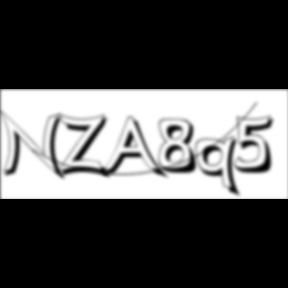5: (232, 114, 280, 176)
8: (158, 117, 204, 176)
A: (101, 116, 170, 182)
N: (0, 109, 70, 183)
Z: (58, 112, 114, 181)
q: (196, 135, 244, 200)
